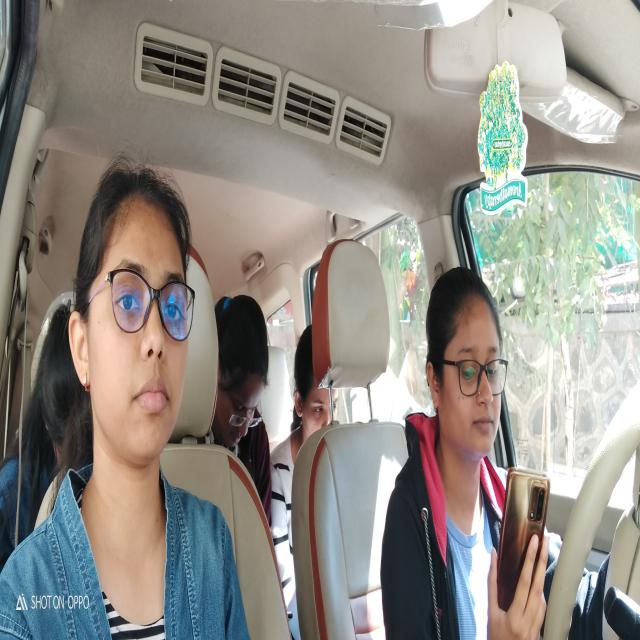mobile: (494, 466, 553, 615)
person: (68, 147, 200, 478), (426, 264, 505, 482), (216, 287, 269, 454), (33, 300, 83, 466), (292, 321, 340, 453)
